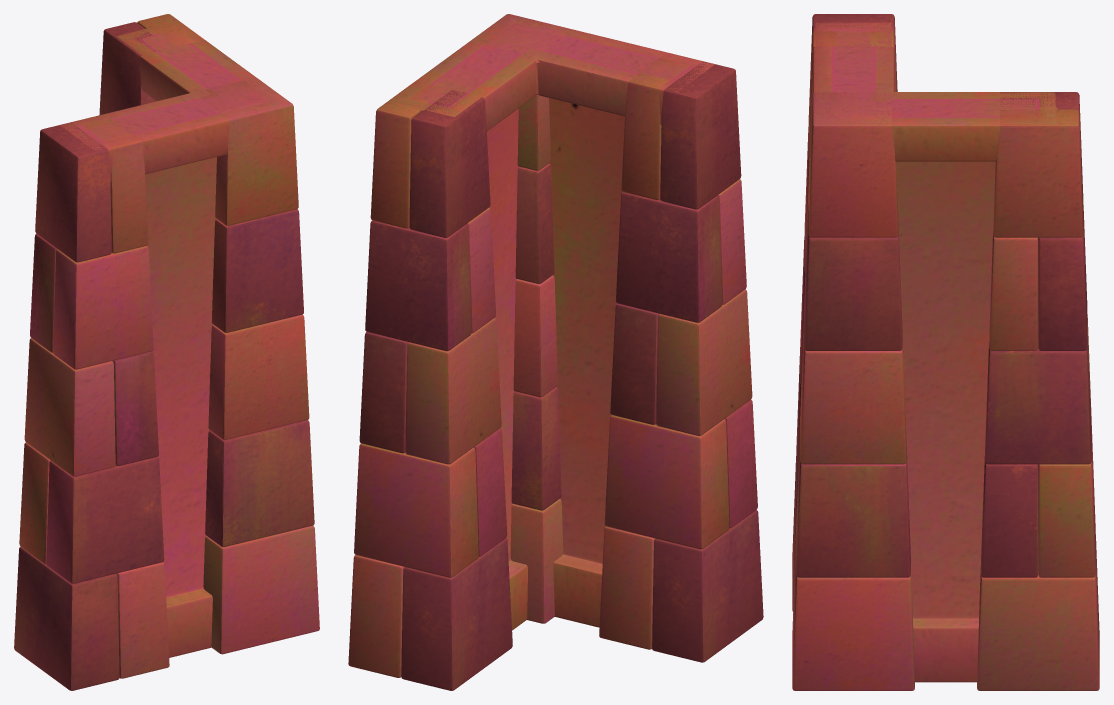
The model's file is TEMPLE_CORNER_001.obj.
3 renders of one model, left to right at view 1: azimuth 30°, elevation 25°; view 2: azimuth 150°, elevation 25°; view 3: azimuth 270°, elevation 25°, orthographic. The views are drawn at different scales.
Visible parts, largest first — view 1: TEMPLE_CORNER_001; view 2: TEMPLE_CORNER_001; view 3: TEMPLE_CORNER_001.
Boxes of the visible parts, x1,y1,x2,y2 form: TEMPLE_CORNER_001: (14, 14, 319, 690); TEMPLE_CORNER_001: (348, 14, 763, 690); TEMPLE_CORNER_001: (792, 14, 1099, 690).
Bounding box in the file's own units: 1.5 × 3 × 1.5.
